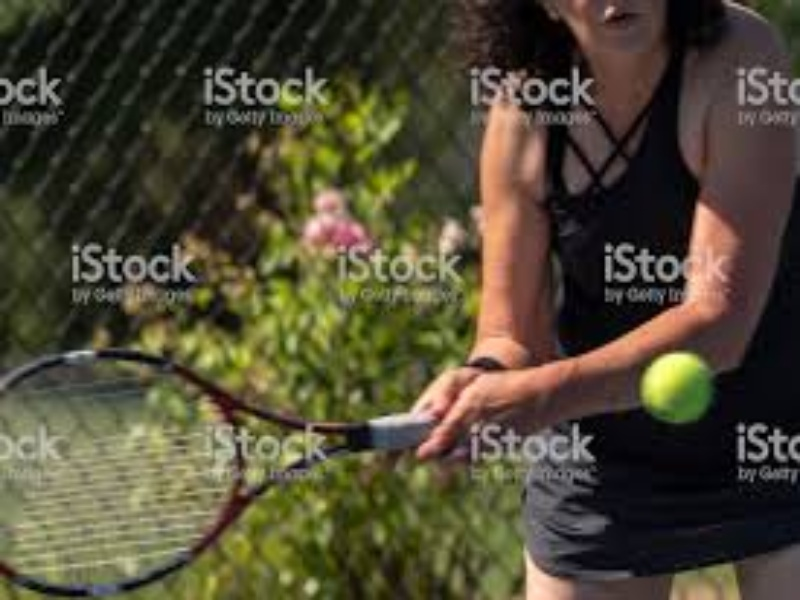tennis ball: (631, 336, 739, 447)
